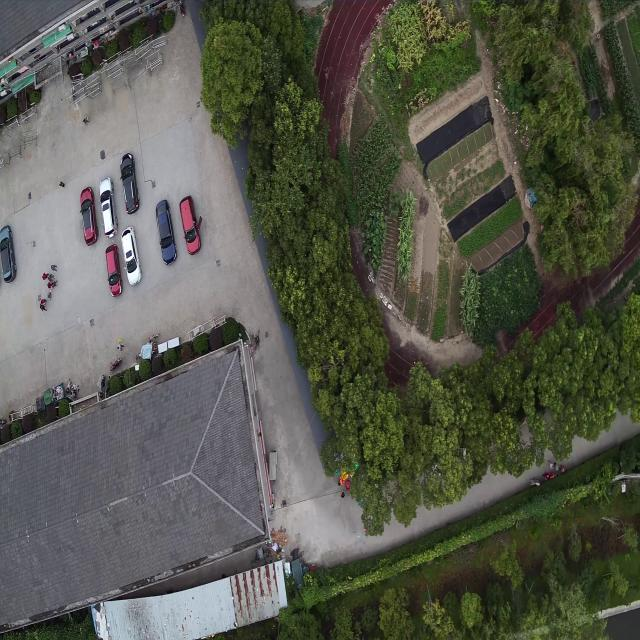UAV: (351, 528, 367, 550)
